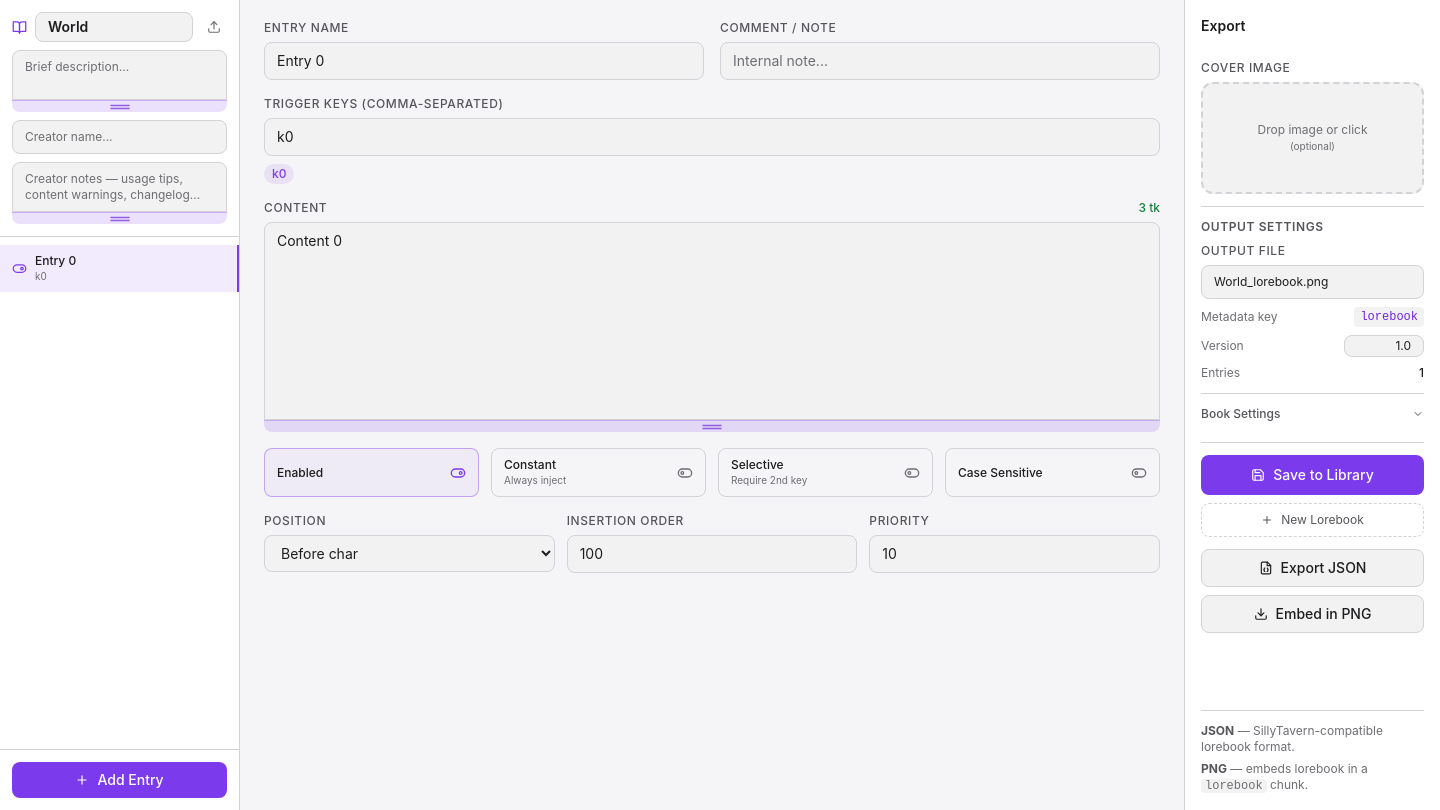
Test: LoreBookEditor › edits the selected entry's name in the list as you type
The width and height of the screenshot is (1440, 810).
Replace the text in the field with placeholder "Dragon Lore..." below "Entry Name" with "Dragons": [484, 61] box [264,42,704,80]
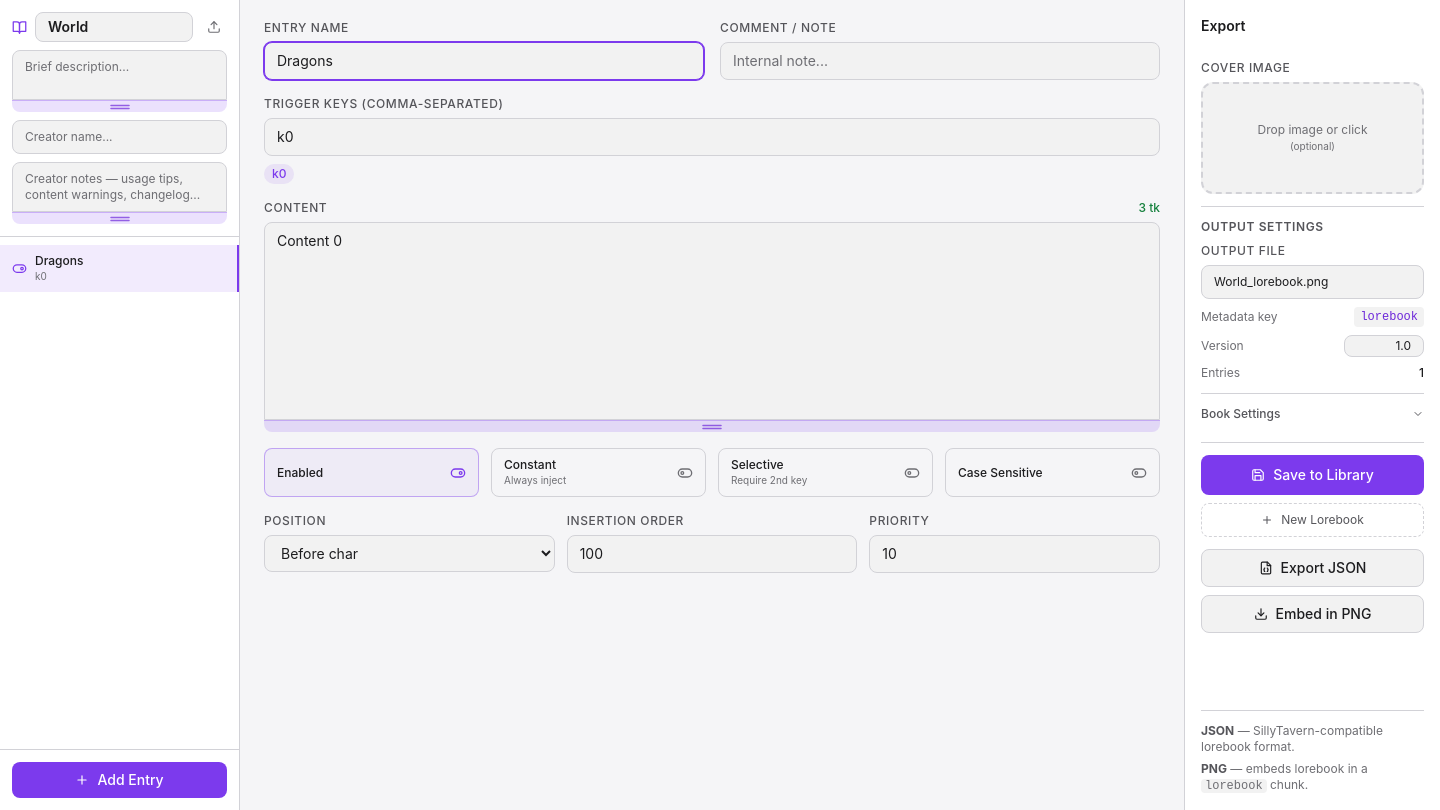
Now the text "Dragons" is shown, box [35,253,83,268]
